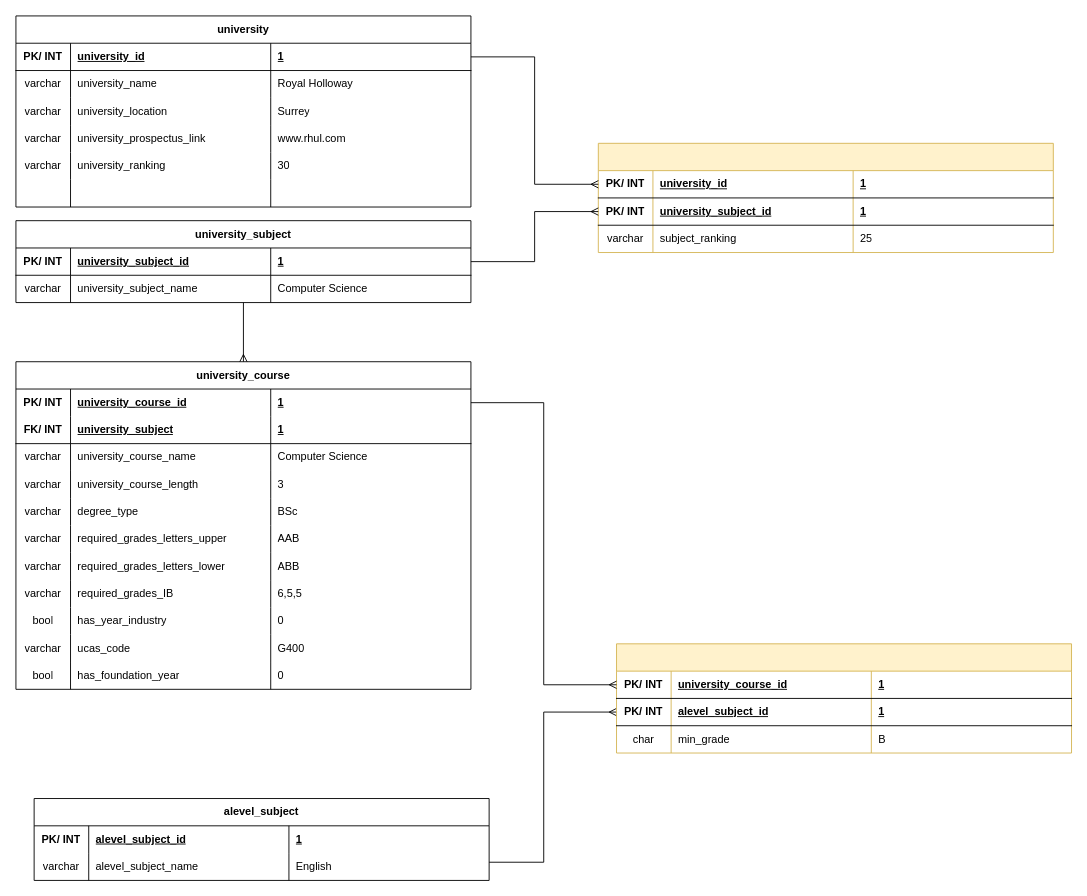
This 1087x896 diagram has some shape labels left out. Here are the shapes that lost their labels. From the top down, the box of each, then its label:
(597, 142, 1053, 253): combine_university_univeristy_subject
(616, 643, 1072, 753): combine_university_course_alevel_subject
